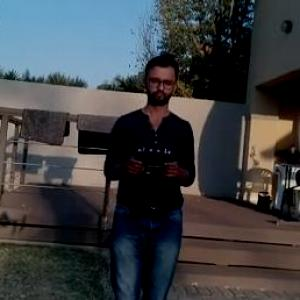follow: (93, 45, 198, 299)
